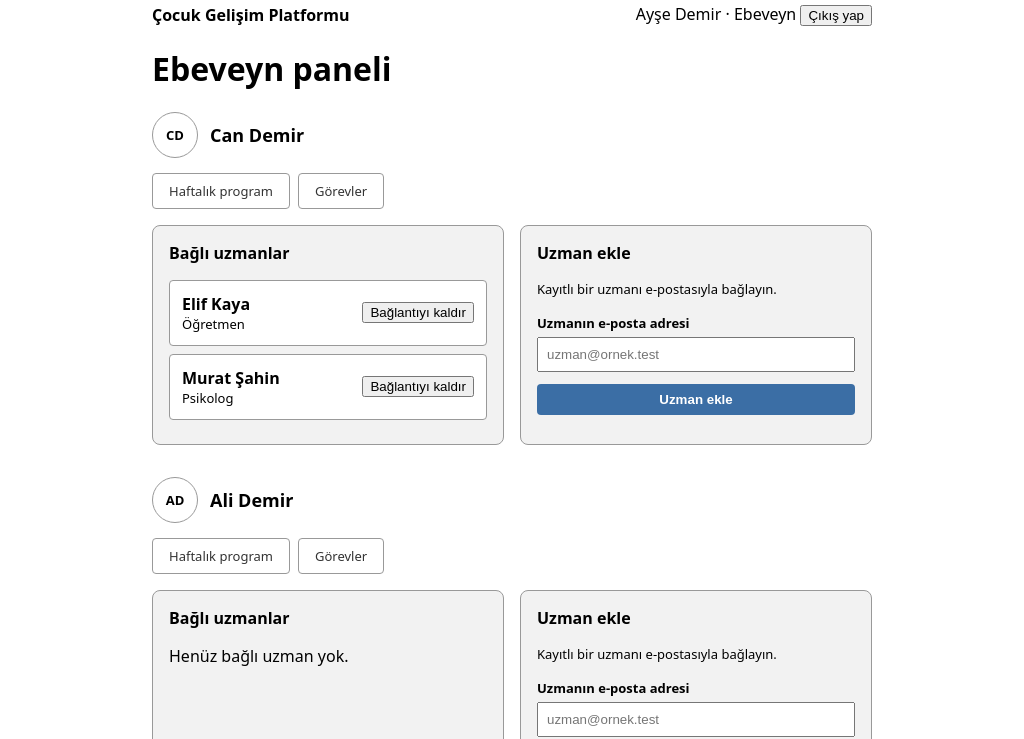
Test case: ParentDashboard › link form › links to the child of the form it was sent from
In the field labelled "Uzmanın e-posta adresi" below "Henüz bağlı uzman yok.": (696, 719) x1=537 y1=702 x2=855 y2=737, type "coach@demo.test"
(page scrolled)
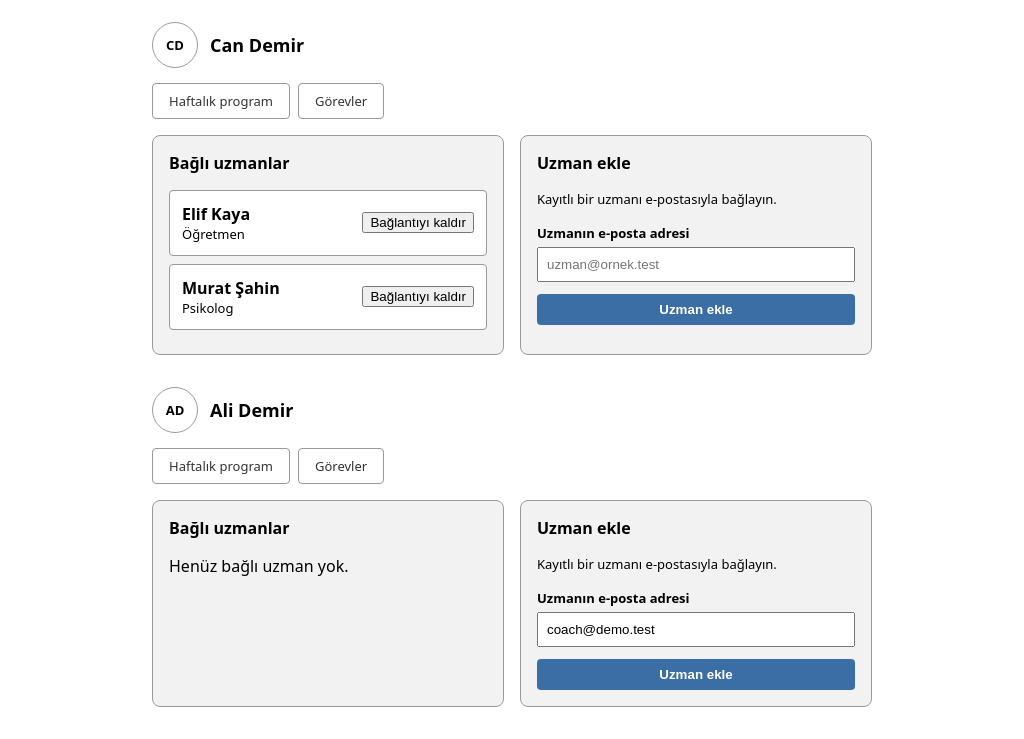
Click the button "Uzman ekle" below "Henüz bağlı uzman yok.": click(696, 674) x1=537 y1=659 x2=855 y2=690
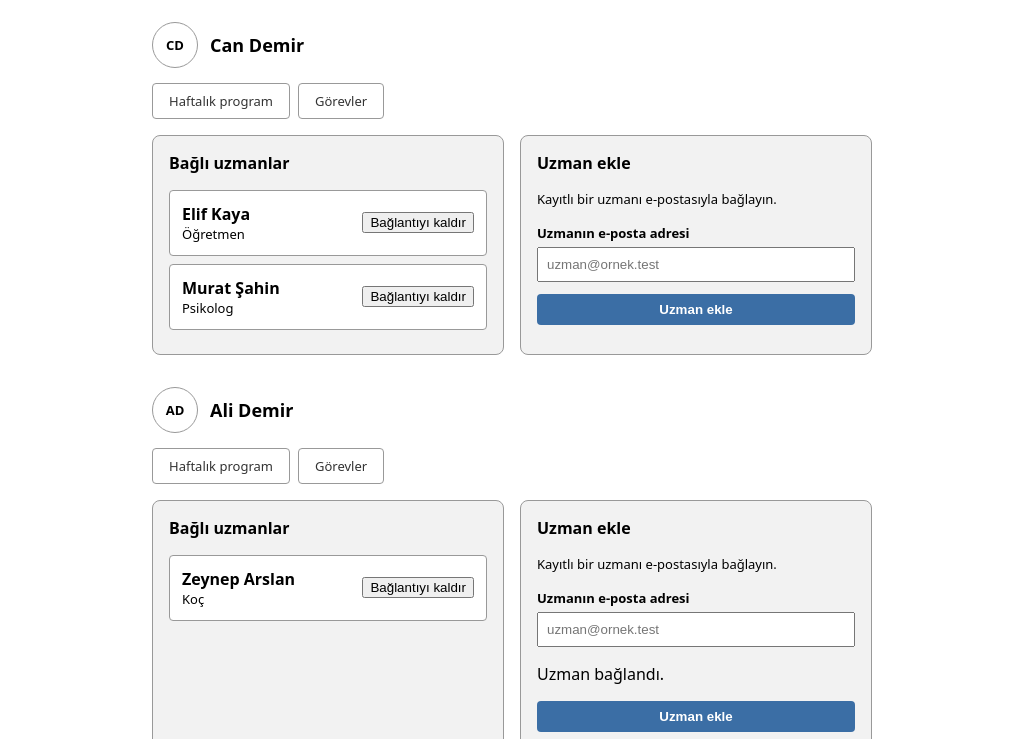
Expected: the text "Zeynep Arslan" is shown, x1=182 y1=568 x2=295 y2=590
